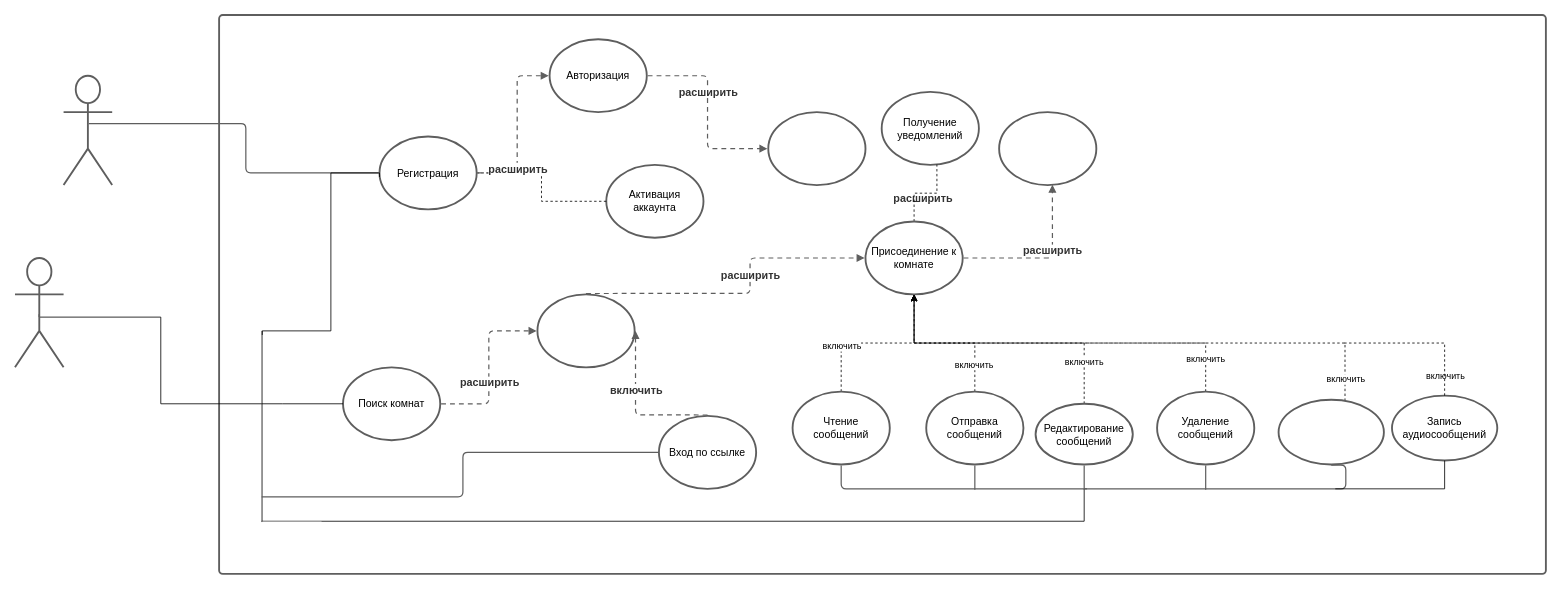
Image size: 1561x589. Some labels were removed from this diagram. The centre of each missing label's shape, as x and y in pixels:
"Видеоконфиренция" goes at (1330,431).
"Выход" goes at (816,148).
"Выход из комнаты" goes at (1047,148).
"Гость" goes at (87,130).
"Добавление комнаты" goes at (585,330).
"Пользователь" goes at (39,312).
